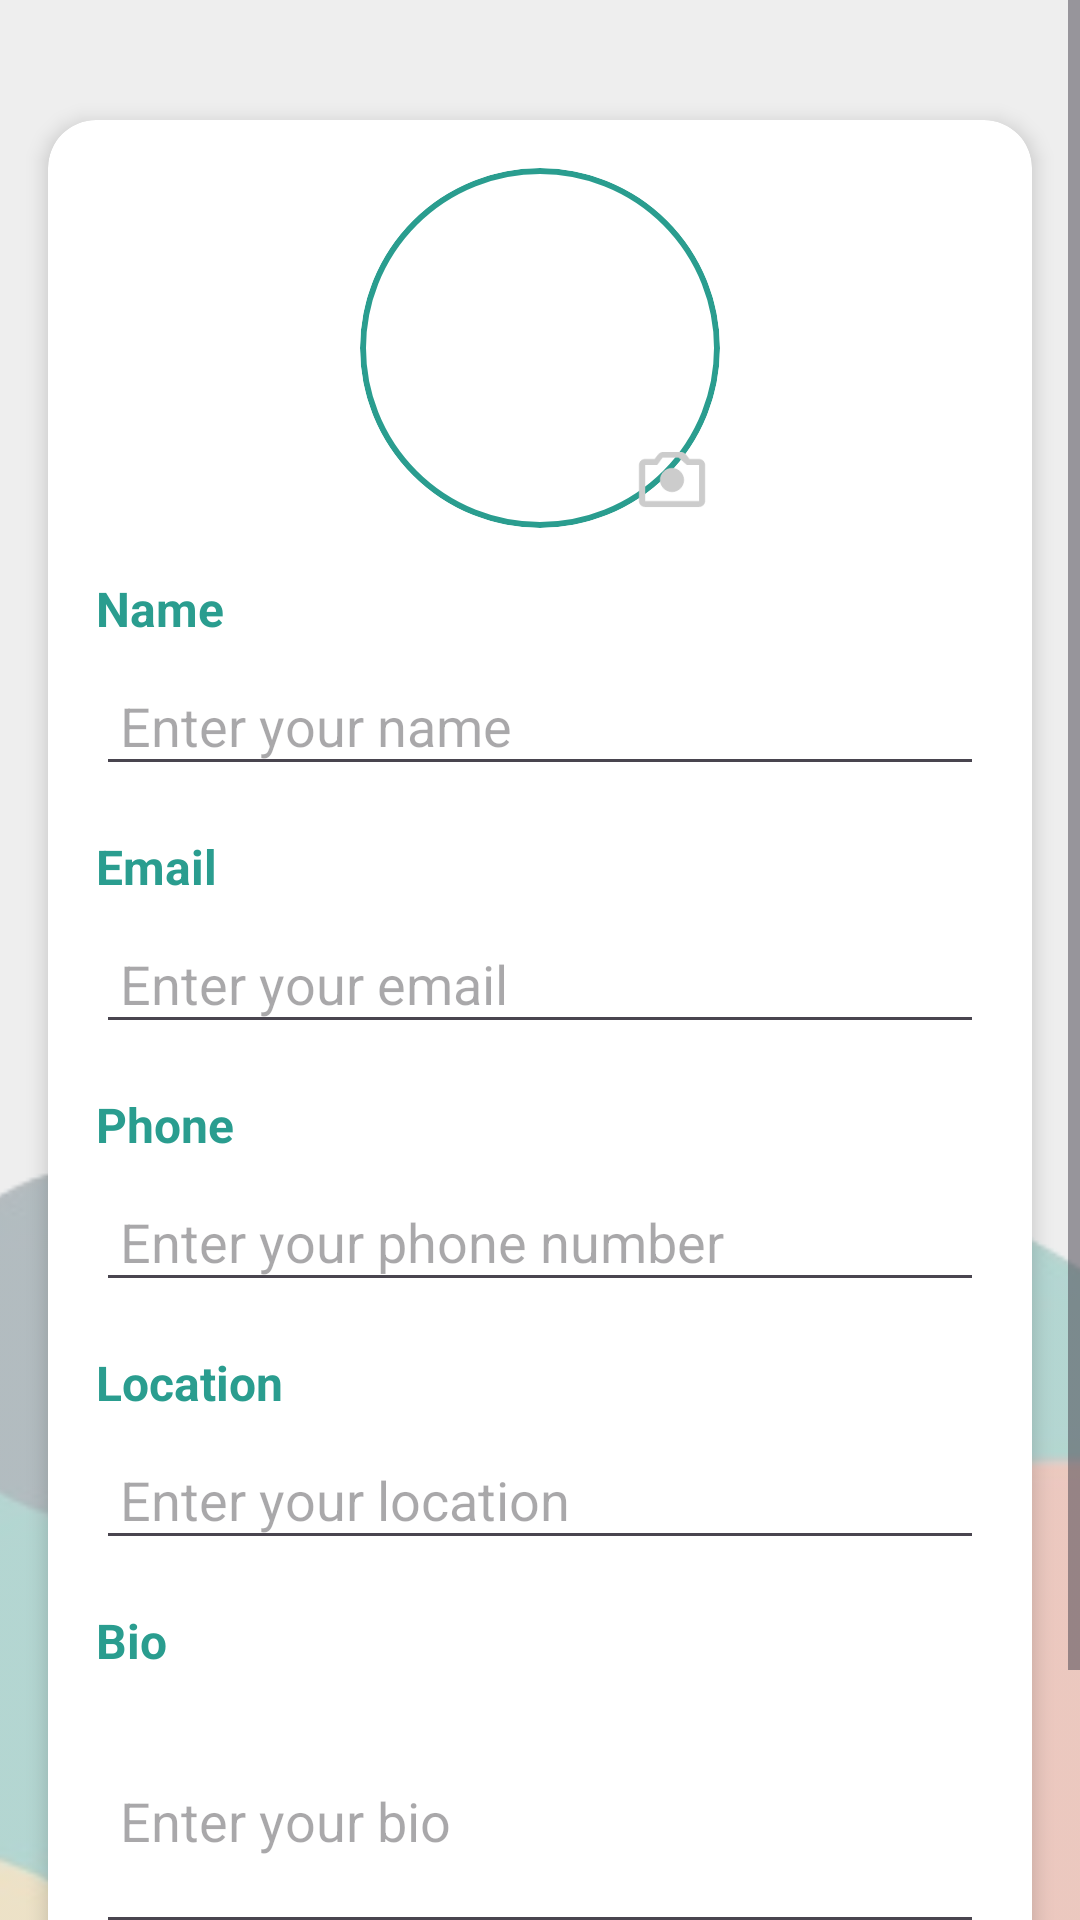

Screen size 1080×1920. Icon name, then its center in pixels as (x=x, y=y):
Change Profile Picture: (x=664, y=469)
